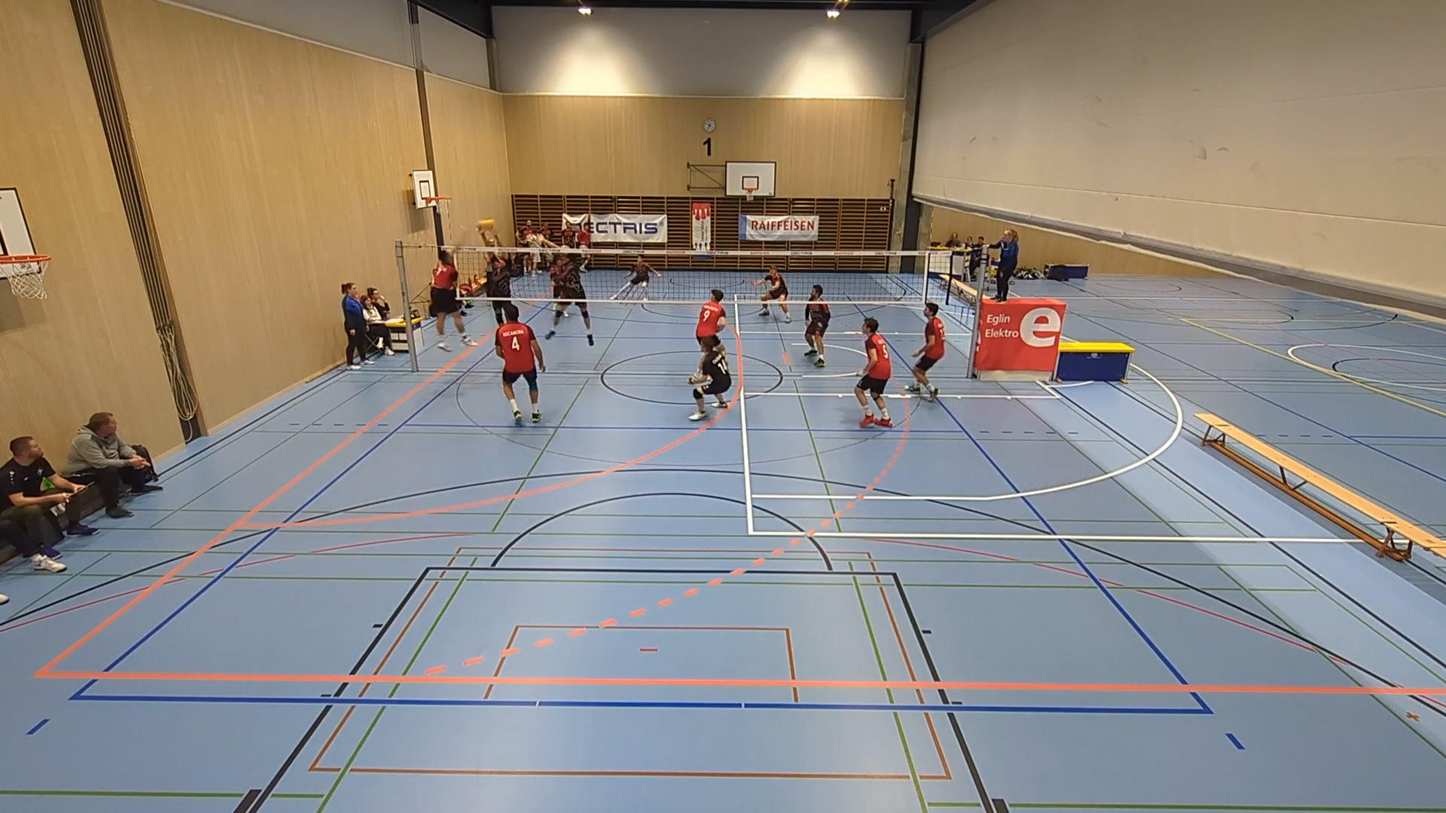attacco: (418, 234, 476, 350)
muro: (527, 232, 609, 355), (476, 248, 521, 346)
